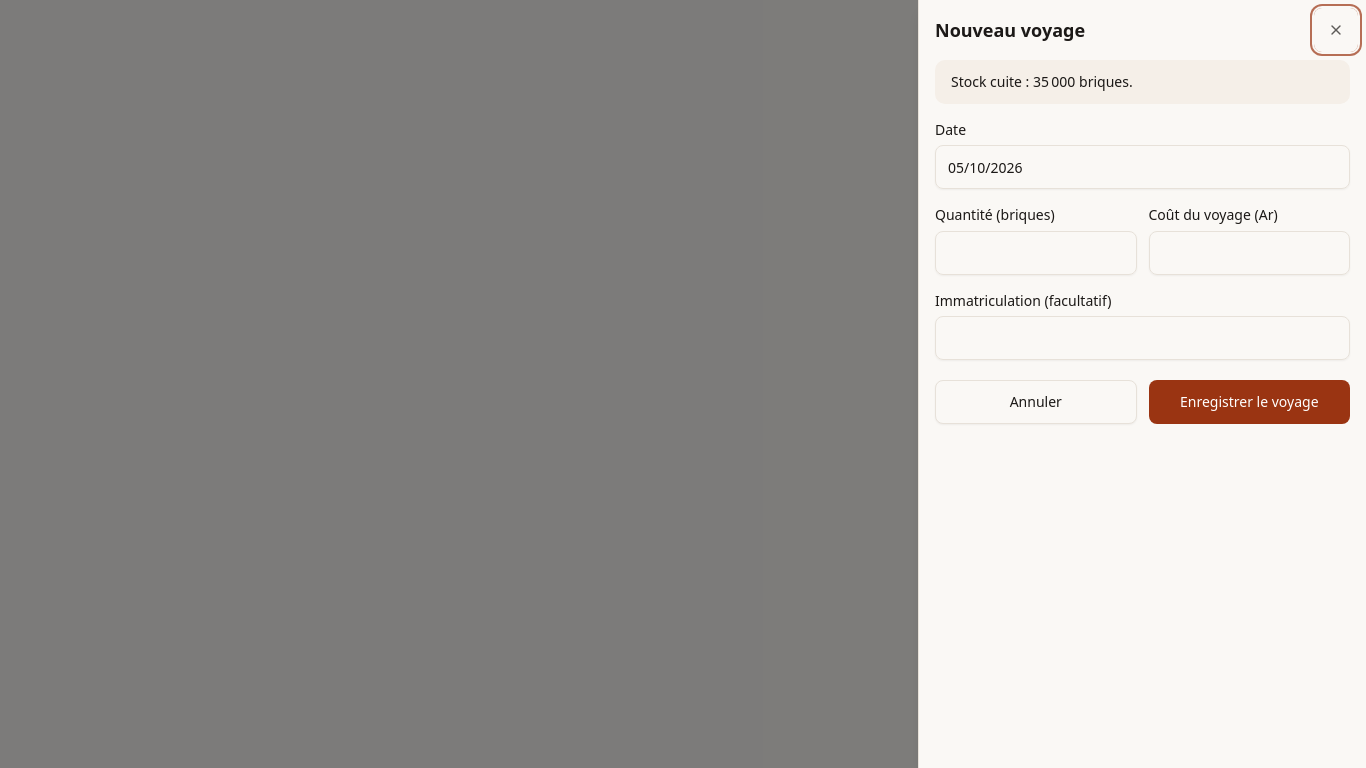
Test: NewDeliveryPage › accepts a trip that cost nothing but requires a quantity
The width and height of the screenshot is (1366, 768).
Type "0" into the field labelled "Coût du voyage (Ar)" at (1249, 252), box x1=1148 y1=230 x2=1350 y2=274
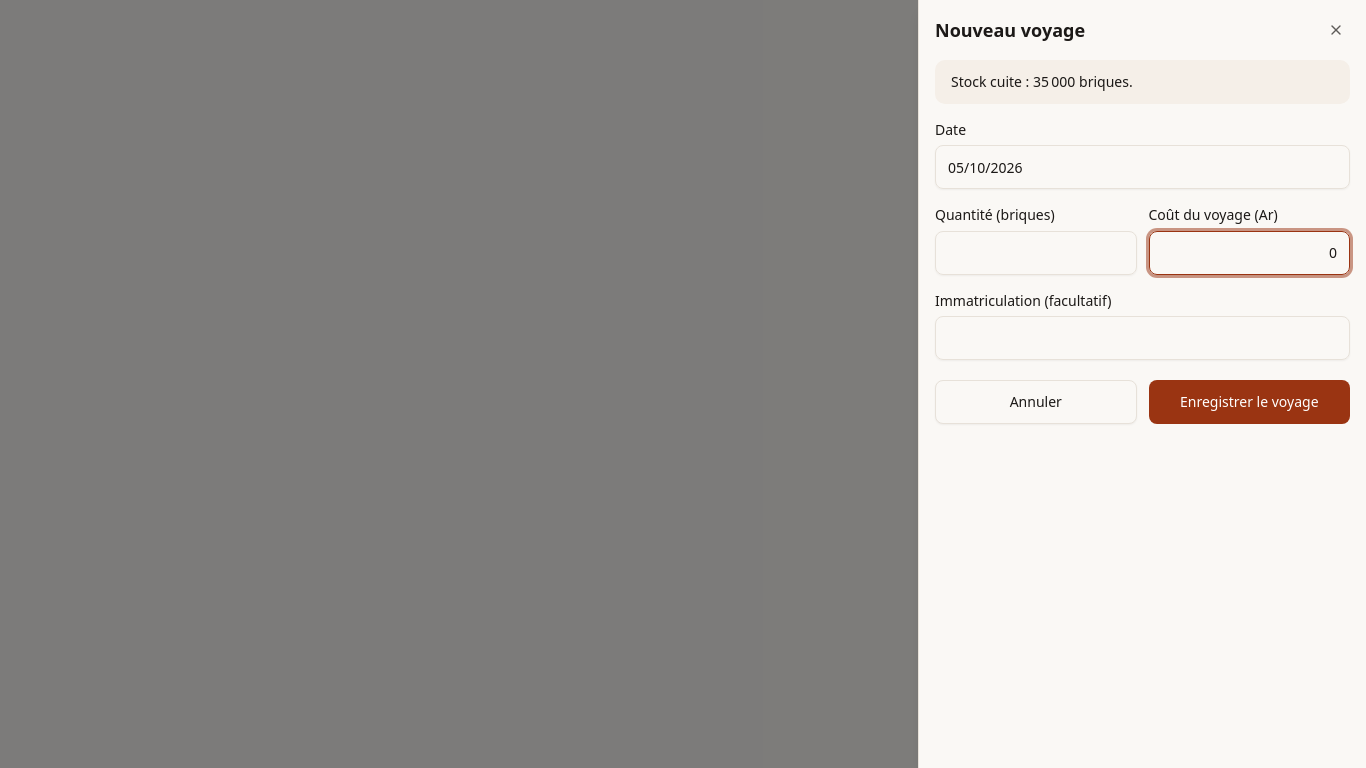
Click the button "Enregistrer le voyage" at (1249, 402), box x1=1148 y1=380 x2=1350 y2=424
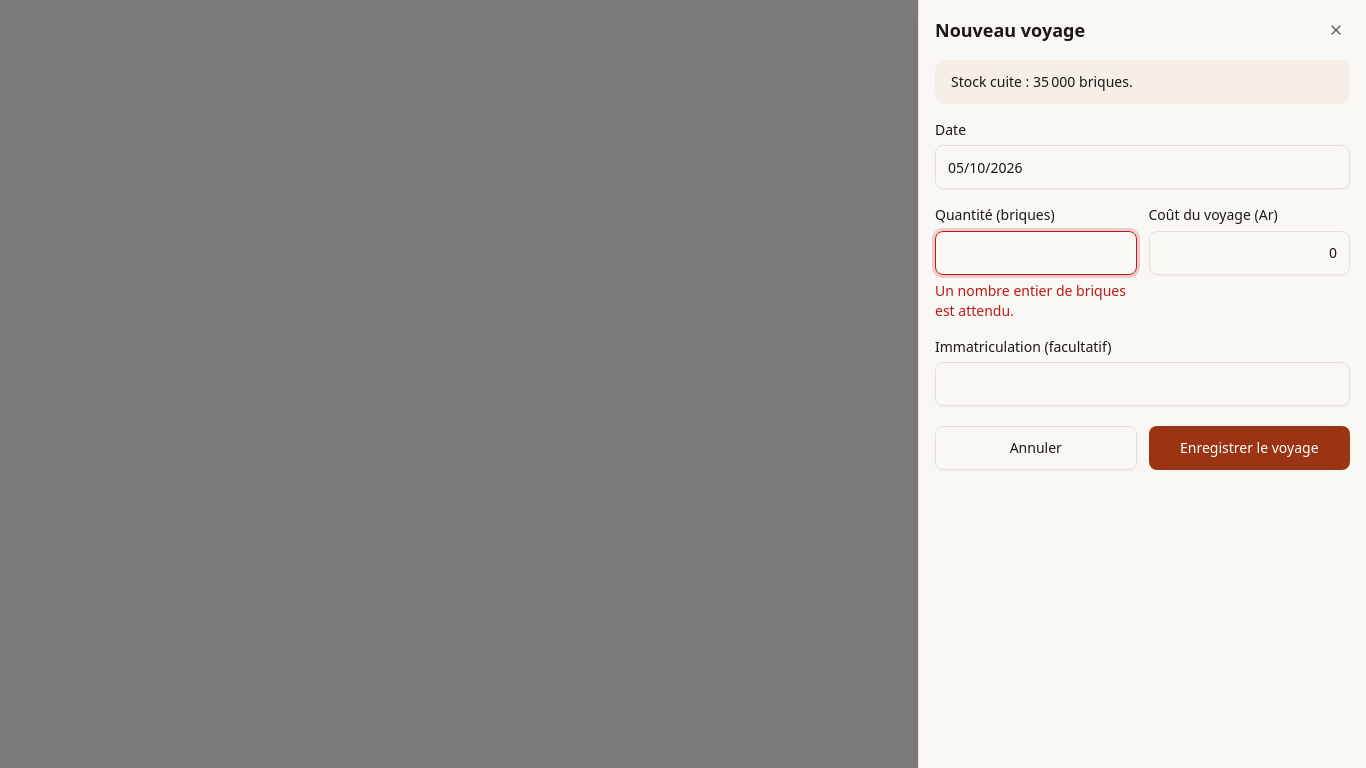
Check: the messages read "Un nombre entier de briques est attendu.", in this order, box x1=935 y1=280 x2=1136 y2=320
